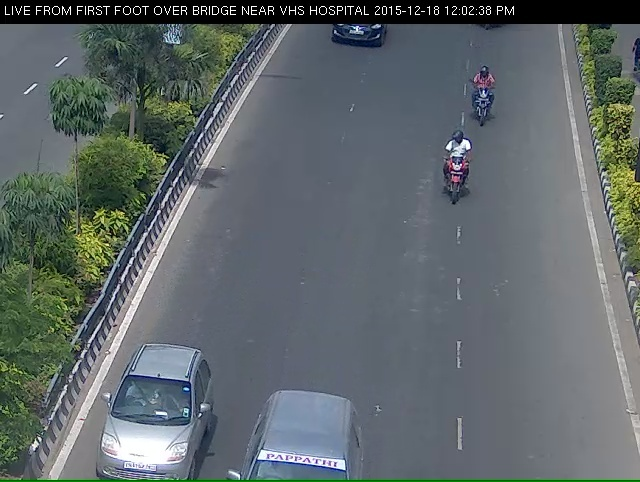Car: (89, 377, 198, 481)
Person: (419, 147, 484, 220), (470, 73, 504, 131)
